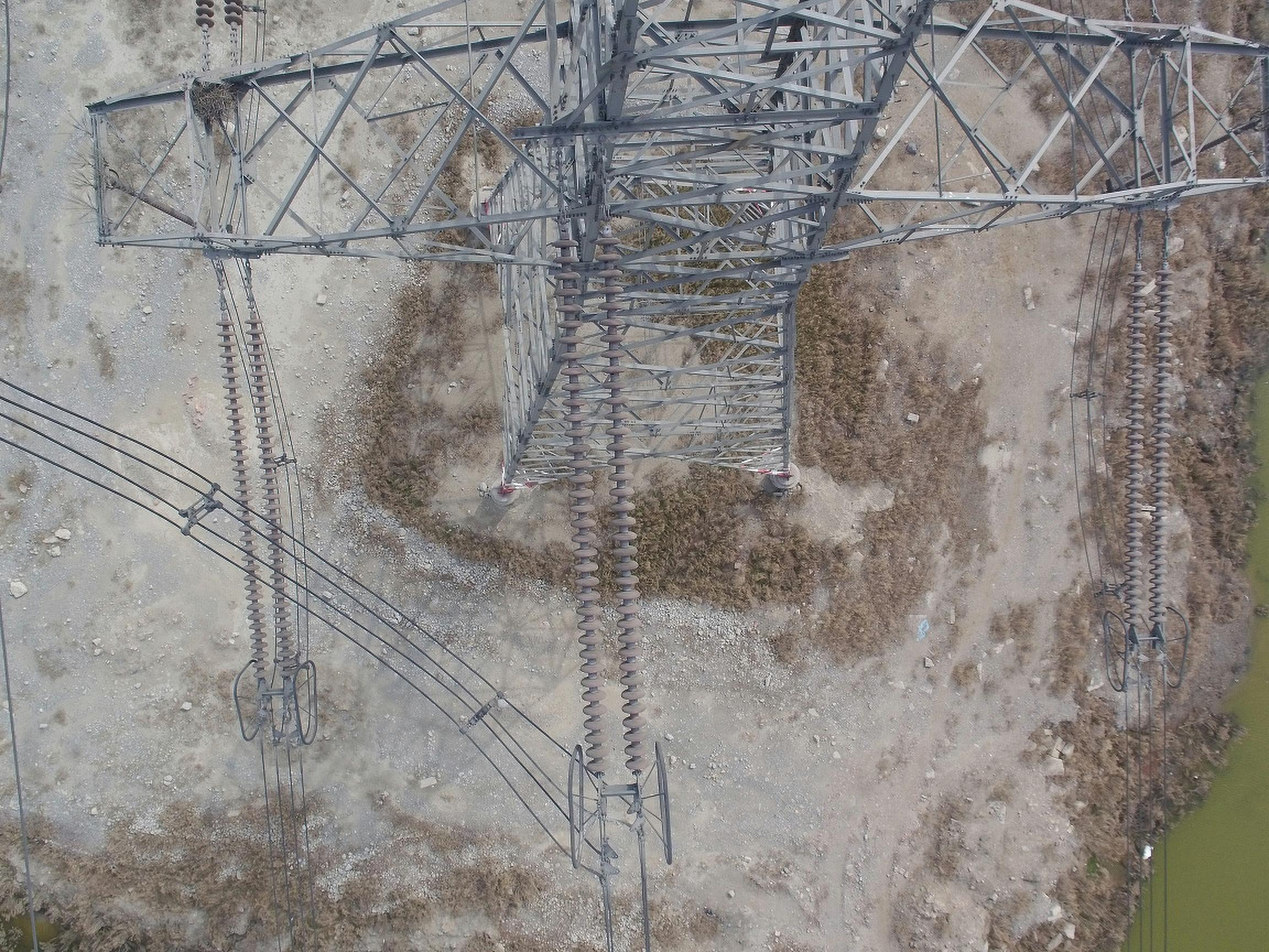insulator: (547, 234, 652, 779), (211, 316, 302, 682), (1120, 267, 1181, 634)
